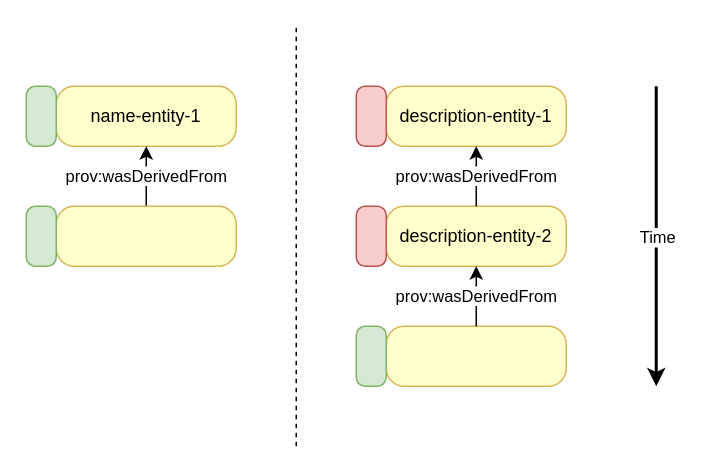
The diagram is 701 pixels wide and 474 high, and some of its shapes have lost their labels. The box of each missing label's shape, as (x1, y1, x2, y2) in pixels:
description-entity-3: (385, 325, 566, 386)
name-entity-2: (55, 205, 236, 266)
